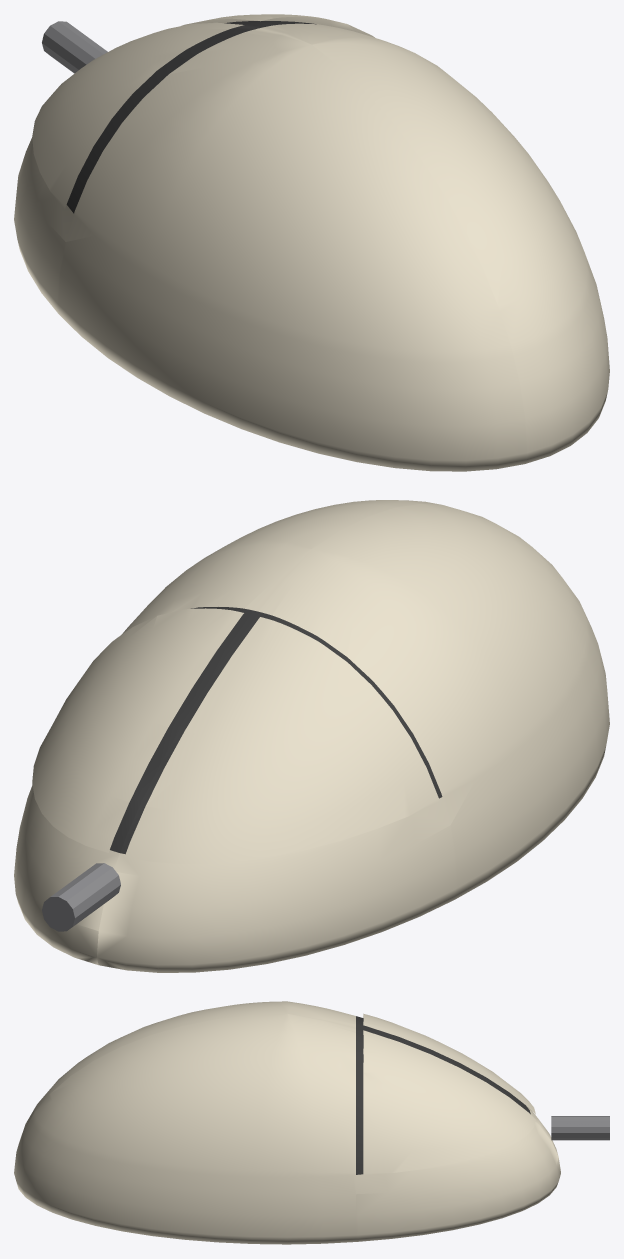
The model's file is mouse.glb.
3 renders of one model, top to bottom at view 1: azimuth 30°, elevation 25°; view 2: azimuth 150°, elevation 25°; view 3: azimuth 270°, elevation 25°, orthographic. The views are drawn at different scales.
Visible parts, largest first — view 1: body, btn_mouse_right, btn_mouse_left; view 2: body, btn_mouse_right, btn_mouse_left; view 3: body, btn_mouse_left, btn_mouse_right.
Part boxes in pixels (bbox=[...]): body: bbox=[14, 21, 609, 471]; btn_mouse_right: bbox=[32, 22, 243, 209]; btn_mouse_left: bbox=[181, 14, 374, 37]; body: bbox=[14, 500, 609, 972]; btn_mouse_right: bbox=[124, 617, 439, 863]; btn_mouse_left: bbox=[32, 608, 243, 852]; body: bbox=[14, 1001, 609, 1244]; btn_mouse_left: bbox=[363, 1030, 535, 1175]; btn_mouse_right: bbox=[363, 1013, 535, 1114].
Bounding box in the file's own units: 0.062 × 0.0378 × 0.122.
